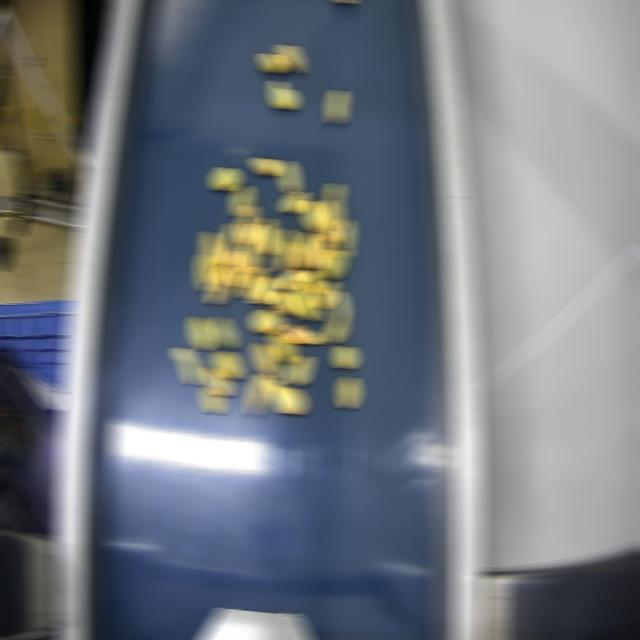Baby Potato: (265, 379, 304, 414), (326, 290, 347, 343), (241, 224, 264, 272), (289, 282, 318, 320), (202, 232, 221, 282), (247, 374, 270, 415), (173, 347, 198, 384), (209, 265, 232, 304), (217, 223, 238, 265), (235, 205, 256, 245), (254, 342, 277, 378), (239, 266, 264, 299), (212, 351, 241, 379), (270, 331, 295, 363), (249, 276, 278, 303), (213, 316, 236, 350), (283, 324, 322, 344), (319, 200, 338, 241), (271, 80, 296, 110), (190, 316, 211, 351), (205, 367, 230, 396), (252, 309, 281, 334), (313, 230, 332, 268), (227, 249, 246, 287), (276, 230, 293, 272), (287, 355, 310, 386), (276, 44, 301, 72), (321, 249, 344, 279), (326, 183, 341, 229), (303, 200, 324, 232), (259, 217, 276, 255), (301, 232, 318, 269), (271, 291, 296, 316), (211, 168, 238, 191), (314, 280, 335, 309), (339, 376, 358, 408), (328, 89, 345, 124), (280, 160, 297, 194), (282, 191, 307, 214), (336, 219, 351, 257), (197, 255, 212, 292), (287, 240, 306, 269), (279, 269, 306, 289), (233, 184, 250, 215), (302, 269, 323, 294), (203, 388, 222, 414), (252, 157, 279, 175), (334, 345, 355, 368), (260, 53, 283, 73), (338, 0, 353, 4)
